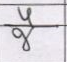ai_matra: (17, 6, 39, 25)
